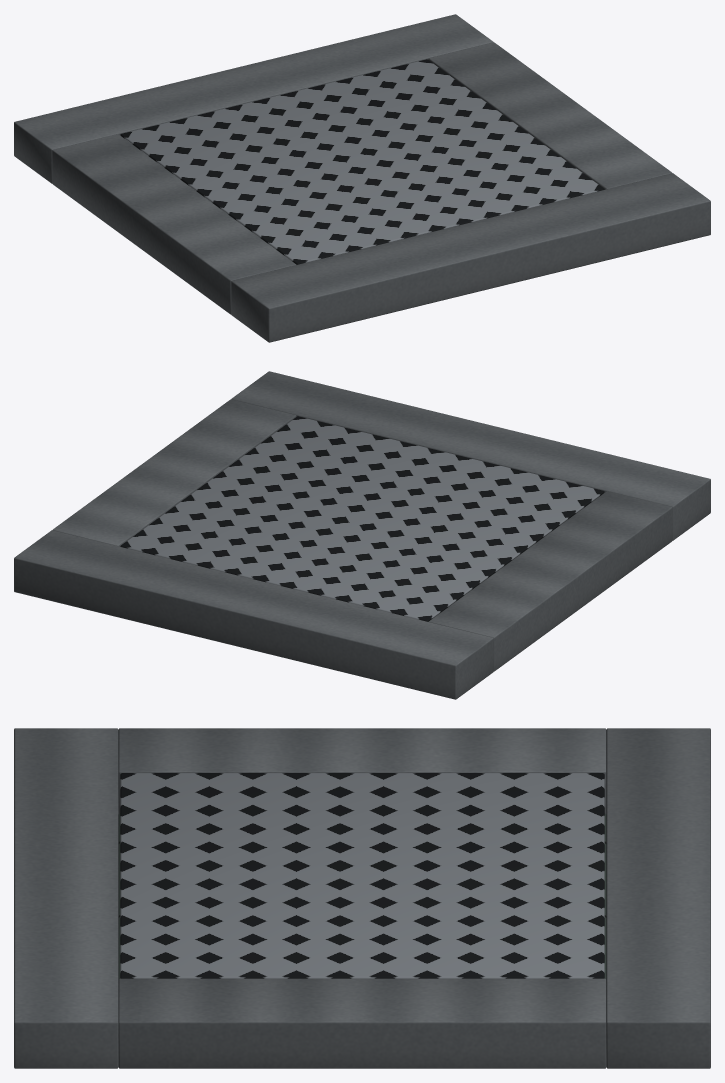
File: WK_FLOOR_GRATE_B_01.glb
3 renders of one model, top to bottom at view 1: azimuth 30°, elevation 25°; view 2: azimuth 150°, elevation 25°; view 3: azimuth 270°, elevation 25°, orthographic. The views are drawn at different scales.
Visible parts, largest first — view 1: WK_FLOOR_GRATE_B_01; view 2: WK_FLOOR_GRATE_B_01; view 3: WK_FLOOR_GRATE_B_01.
Part boxes in pixels (x1,y1,x2,y2): WK_FLOOR_GRATE_B_01: [14, 14, 710, 342]; WK_FLOOR_GRATE_B_01: [14, 371, 710, 699]; WK_FLOOR_GRATE_B_01: [14, 728, 710, 1068].
Size of the model in its own units: 4 by 0.3 by 4.
Materials: 3 (3 with a texture image).
